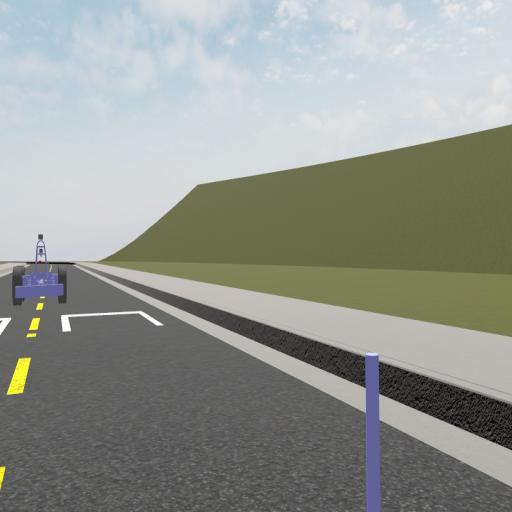ERP-42: (12, 236, 68, 304)
